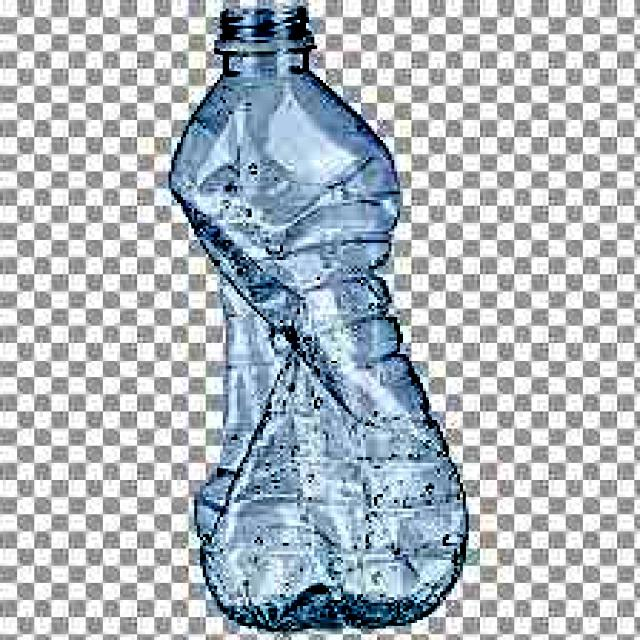Plastic: (155, 7, 469, 631)
